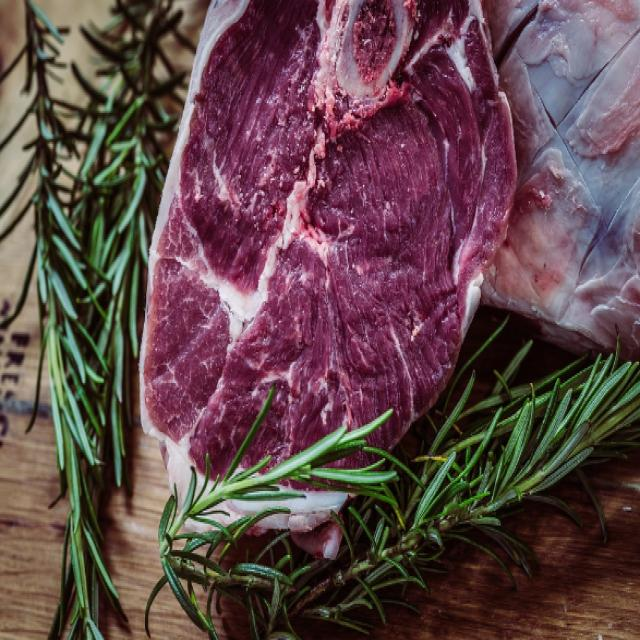pork: (118, 0, 530, 527)
